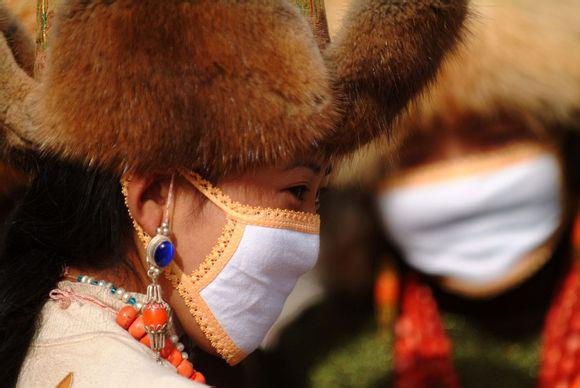OK: (161, 157, 330, 366), (386, 121, 561, 276)
